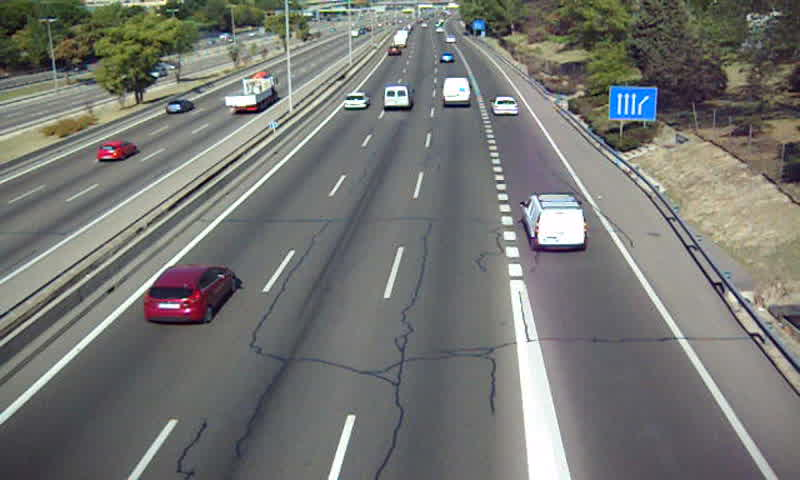car: (144, 263, 236, 323), (343, 90, 372, 112), (490, 96, 518, 115)
van: (524, 195, 588, 249), (442, 78, 471, 107), (382, 85, 414, 110)
